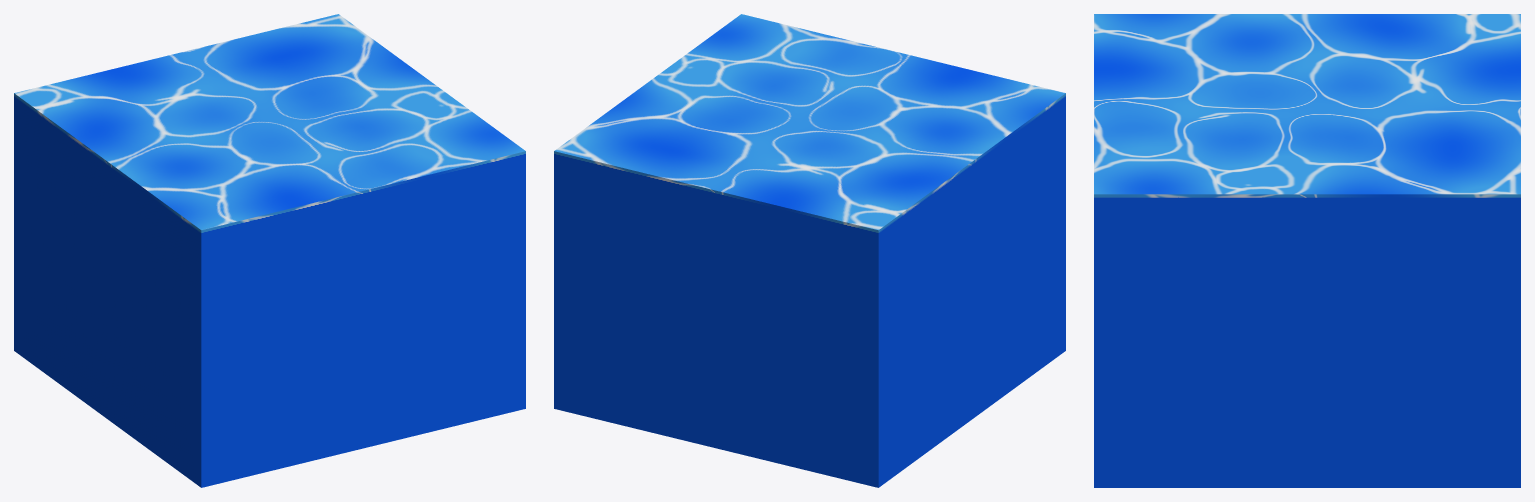
Rendered from MG-ChJ-CS-09ShuiMian-1.FBX.
3 views of the same model, side by side, from view 1: azimuth 30°, elevation 25°; view 2: azimuth 150°, elevation 25°; view 3: azimuth 270°, elevation 25° (orthographic). The views are drawn at different scales.
Visible parts, largest first — view 1: MG-ChJ-CS-09ShuiMian-1; view 2: MG-ChJ-CS-09ShuiMian-1; view 3: MG-ChJ-CS-09ShuiMian-1.
Part boxes in pixels (x1,y1,x2,y2): MG-ChJ-CS-09ShuiMian-1: [14, 14, 525, 487]; MG-ChJ-CS-09ShuiMian-1: [554, 14, 1065, 487]; MG-ChJ-CS-09ShuiMian-1: [1094, 14, 1520, 487].
Bounding box in the file's own units: 39.37 × 29.88 × 39.37.
